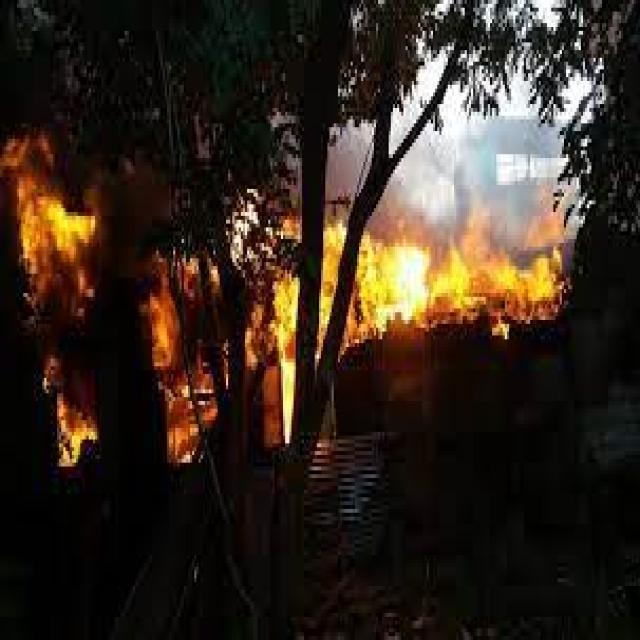Fire: (380, 234, 444, 316)
